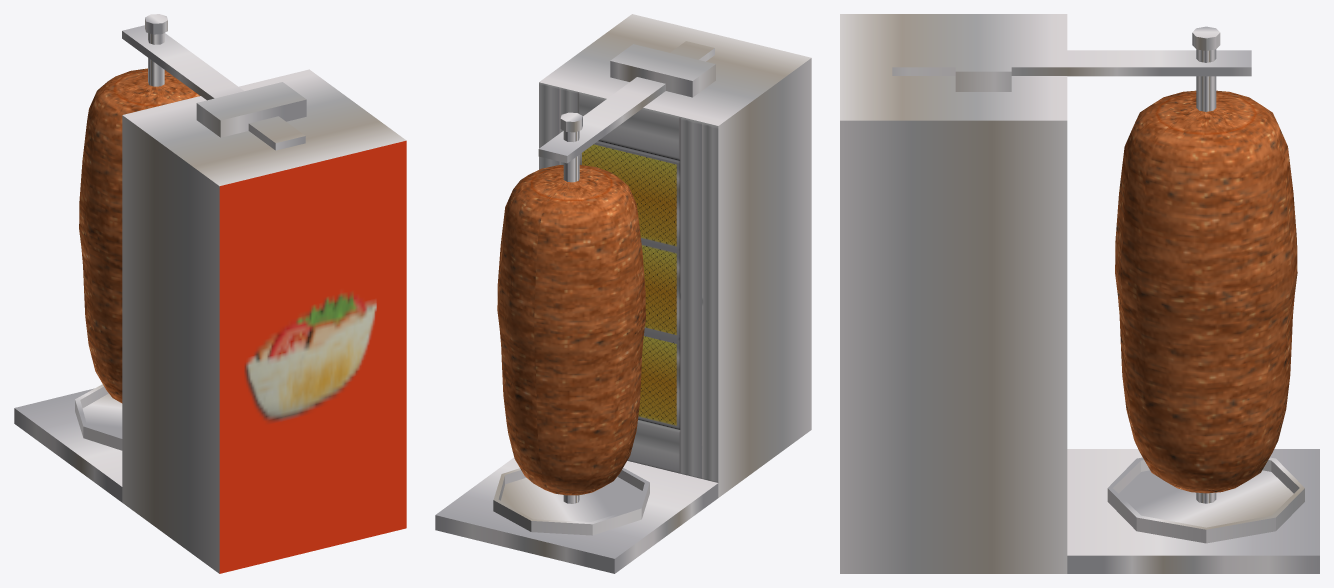
Rendered from MeatGrillingMachine.fbx.
3 renders of one model, left to right at view 1: azimuth 30°, elevation 25°; view 2: azimuth 150°, elevation 25°; view 3: azimuth 270°, elevation 25°, orthographic. The views are drawn at different scales.
Parts seen in each view (by area): view 1: MeatGrillingMachine, Meat, MeatGrillingMachine_Prop; view 2: MeatGrillingMachine, Meat, MeatGrillingMachine_Prop; view 3: MeatGrillingMachine, Meat, MeatGrillingMachine_Prop.
Boxes of the visible parts, bbox=[...] form: MeatGrillingMachine: bbox=[14, 25, 406, 573]; Meat: bbox=[79, 68, 199, 403]; MeatGrillingMachine_Prop: bbox=[145, 14, 167, 86]; MeatGrillingMachine: bbox=[435, 14, 811, 573]; Meat: bbox=[497, 165, 645, 495]; MeatGrillingMachine_Prop: bbox=[560, 112, 582, 503]; MeatGrillingMachine: bbox=[840, 14, 1319, 573]; Meat: bbox=[1115, 90, 1297, 493]; MeatGrillingMachine_Prop: bbox=[1192, 26, 1220, 503].
Size of the model in its own units: 500 by 1066 by 950.
